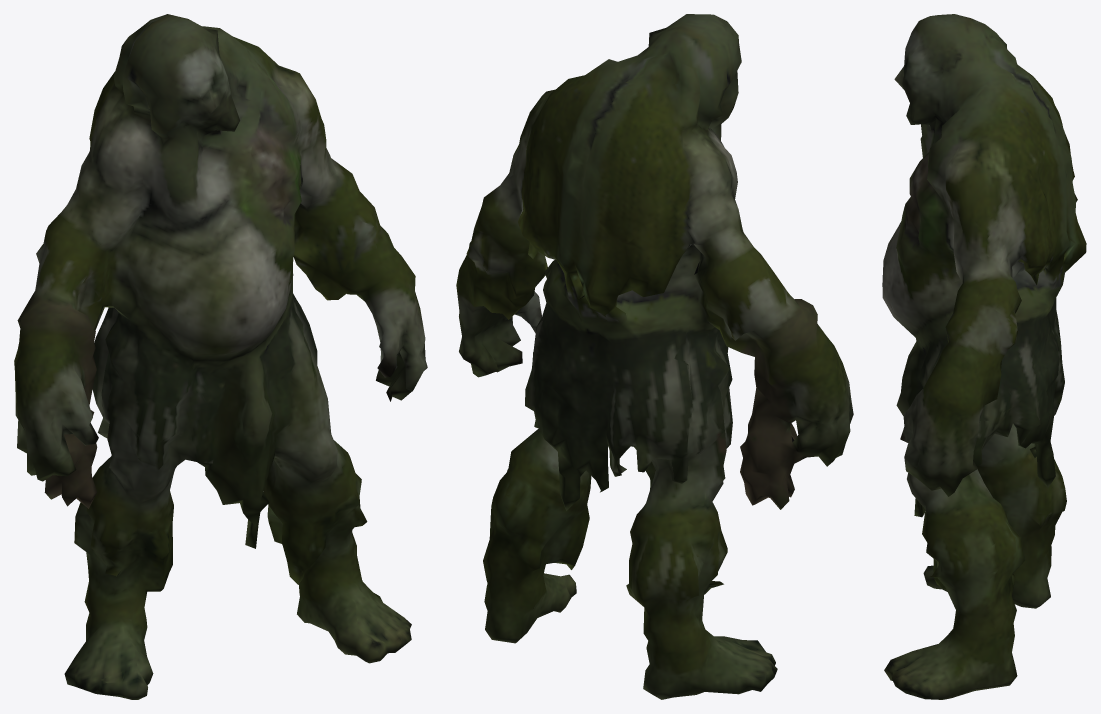
Rendered from bog_drowned_v1.glb.
3 renders of one model, left to right at view 1: azimuth 30°, elevation 25°; view 2: azimuth 150°, elevation 25°; view 3: azimuth 270°, elevation 25°, orthographic. The views are drawn at different scales.
Visible parts, largest first — view 1: drowned; view 2: drowned; view 3: drowned.
Boxes of the visible parts, x1=… form: drowned: x1=14, y1=14, x2=427, y2=699; drowned: x1=456, y1=14, x2=853, y2=699; drowned: x1=882, y1=14, x2=1086, y2=699.
Size of the model in its own units: 0.627 by 1 by 0.3137.
Materials: 1 (1 with a texture image).
